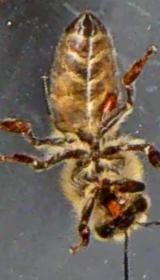varroa_mite: (94, 89, 122, 115)
